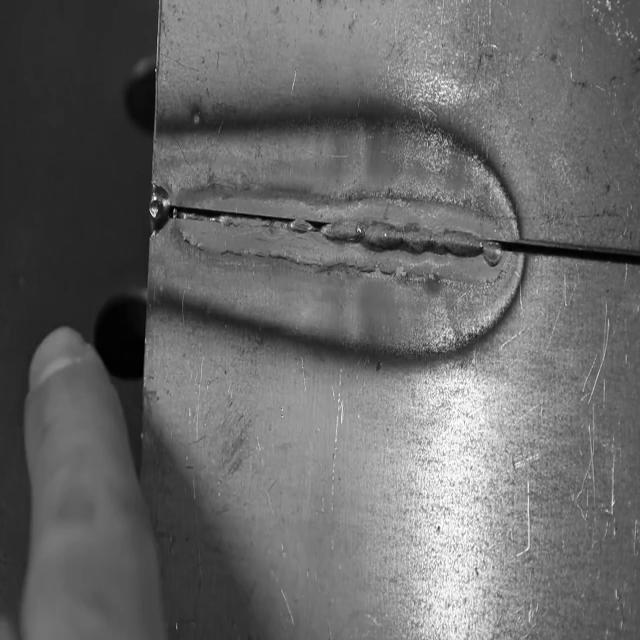Crack: (148, 178, 509, 282)
